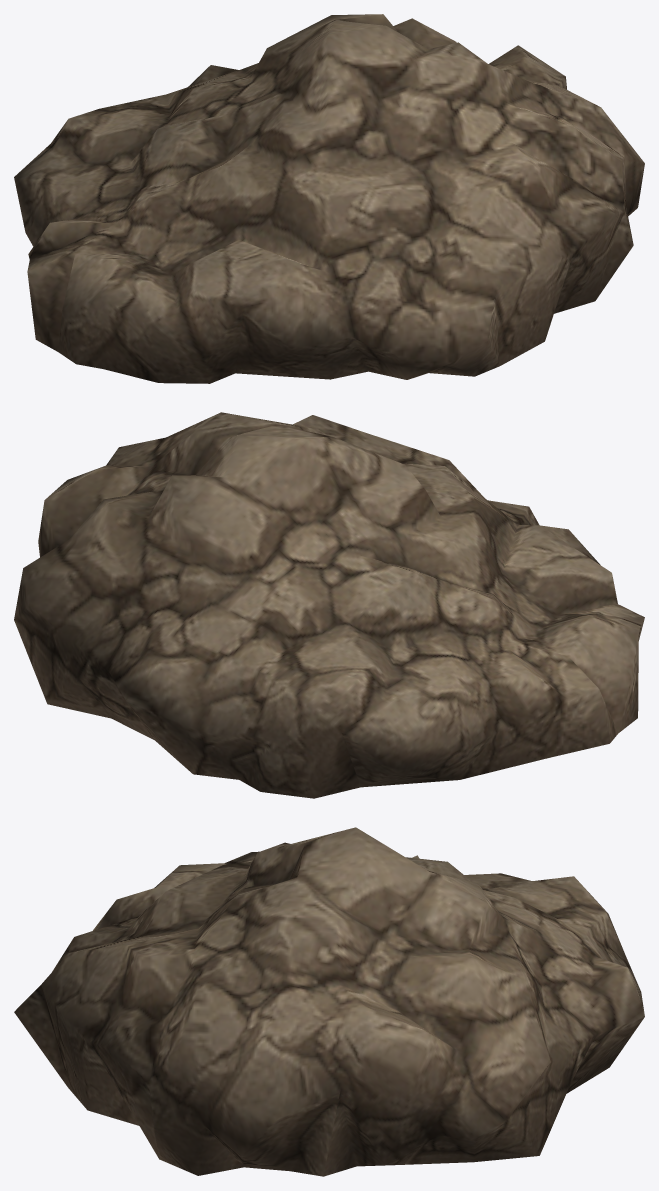
File: environment_stone_shanti_004_c.FBX
3 renders of one model, top to bottom at view 1: azimuth 30°, elevation 25°; view 2: azimuth 150°, elevation 25°; view 3: azimuth 270°, elevation 25°, orthographic. The views are drawn at different scales.
Visible parts, largest first — view 1: environment_stone_shanti_004_c; view 2: environment_stone_shanti_004_c; view 3: environment_stone_shanti_004_c.
Boxes of the visible parts, x1,y1,x2,y2 form: environment_stone_shanti_004_c: (14,14,644,383); environment_stone_shanti_004_c: (14,412,644,798); environment_stone_shanti_004_c: (14,827,644,1176).
Size of the model in its own units: 402 by 165 by 382.
1 material, 1 textured.
